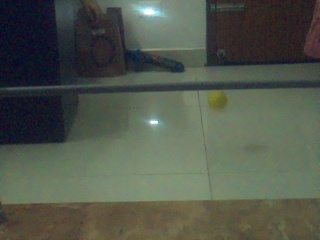ball: (207, 91, 227, 109)
